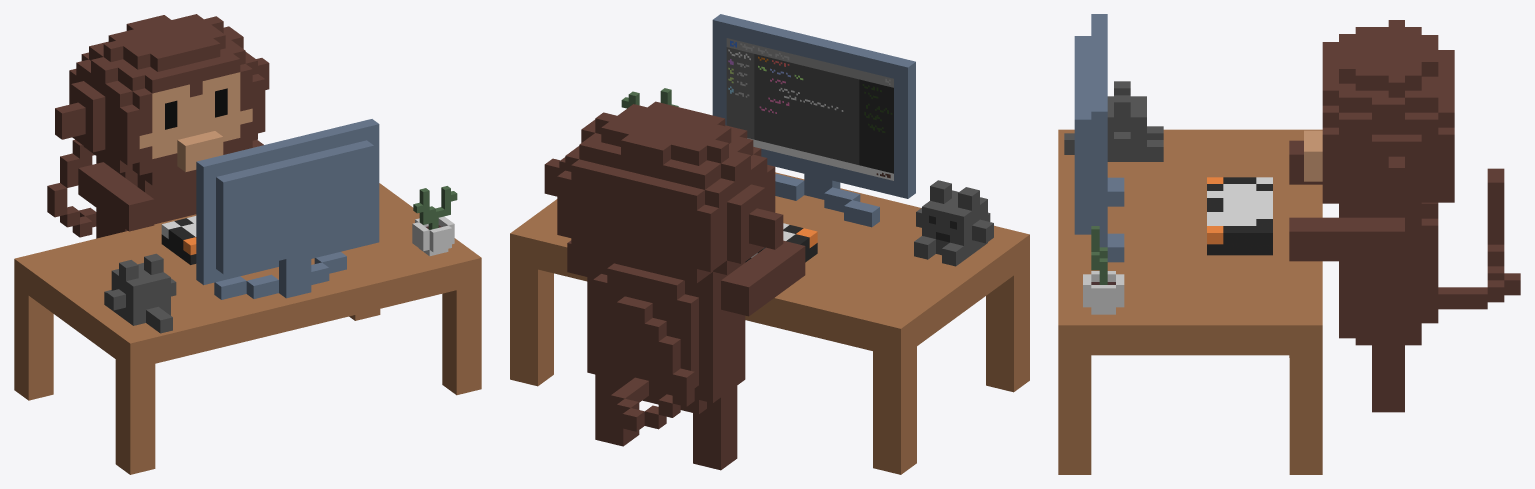
Rendered from monkebake-noplane.glb.
3 renders of one model, left to right at view 1: azimuth 30°, elevation 25°; view 2: azimuth 150°, elevation 25°; view 3: azimuth 270°, elevation 25°, orthographic. The views are drawn at different scales.
Parts seen in each view (by area): view 1: monkedesk; view 2: monkedesk; view 3: monkedesk.
Boxes of the visible parts, x1,y1,x2,y2 form: monkedesk: (14,14,481,474); monkedesk: (510,14,1029,474); monkedesk: (1058,14,1520,474).
Size of the model in its own units: 22.4 by 17.6 by 22.4.
1 material, 1 textured.
